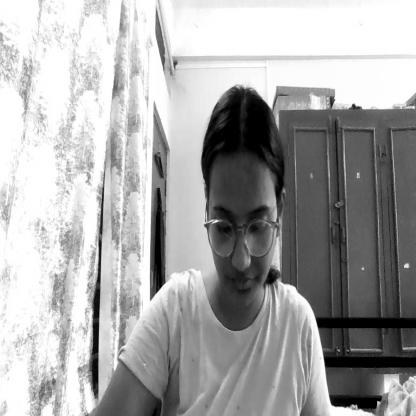Distracted: (203, 87, 280, 309)
